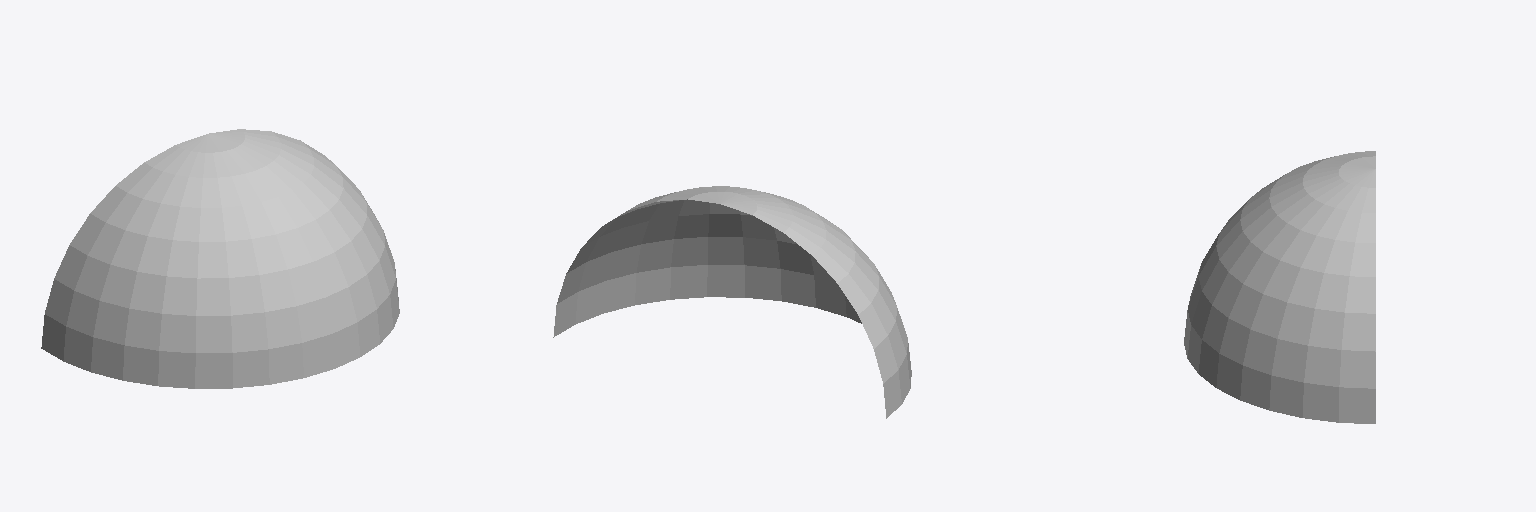
Rendered from quartersphere.obj.
3 renders of one model, left to right at view 1: azimuth 30°, elevation 25°; view 2: azimuth 150°, elevation 25°; view 3: azimuth 270°, elevation 25°, orthographic.
Parts seen in each view (by area): view 1: Sphere; view 2: Sphere; view 3: Sphere.
Part boxes in pixels (bbox=[...]): Sphere: bbox=[41, 129, 399, 388]; Sphere: bbox=[553, 186, 911, 418]; Sphere: bbox=[1184, 151, 1375, 423].
Bounding box in the file's own units: 3.62 × 1.81 × 1.81.